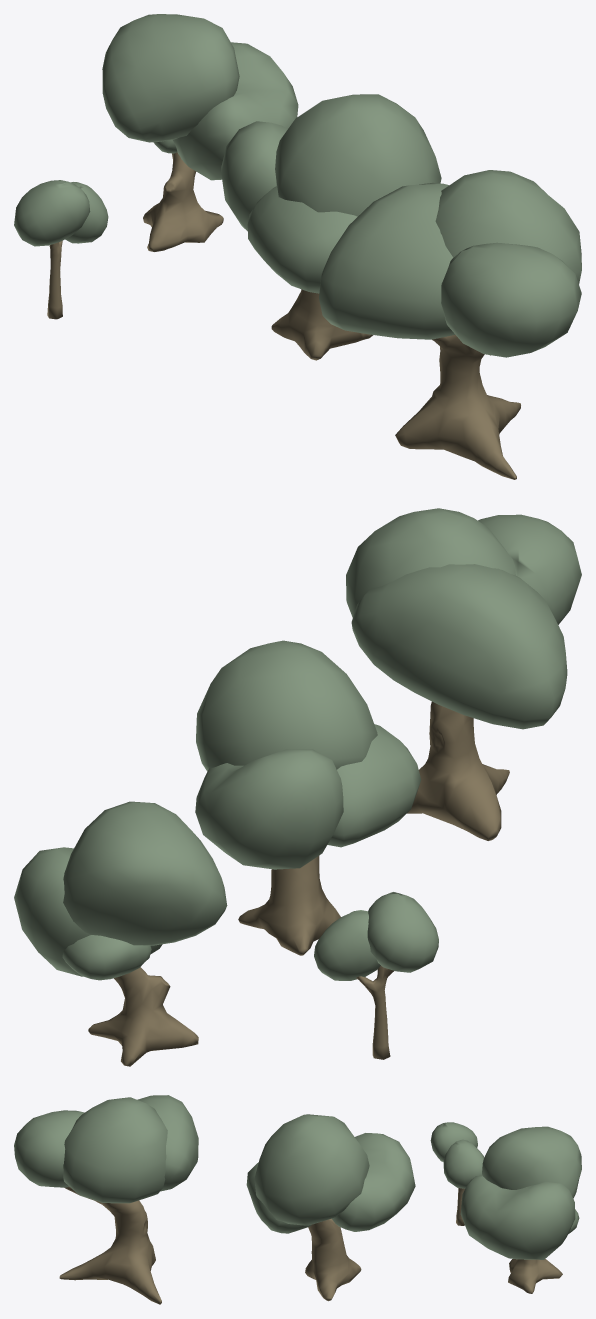
3 renders of one model, top to bottom at view 1: azimuth 30°, elevation 25°; view 2: azimuth 150°, elevation 25°; view 3: azimuth 270°, elevation 25°, orthographic. The views are drawn at different scales.
Visible parts, largest first — view 1: PM3D_Sphere3D1_4, PM3D_Sphere3D1_5, PM3D_Sphere3D1_7, PM3D_Sphere3D2, PM3D_Sphere3D1_3, Tree2_lo1, treeleaves2, PM3D_Sphere3D1_6, treeleaves1, Tree1_lo1, PM3D_Sphere3D3, Tree3_lo1 (+2 smaller); view 2: PM3D_Sphere3D1_4, PM3D_Sphere3D1_7, PM3D_Sphere3D1_5, treeleaves1, PM3D_Sphere3D1_3, Tree2_lo1, PM3D_Sphere3D1_6, PM3D_Sphere3D2, treeleaves2, Tree3_lo1, Tree1_lo1, PM3D_Sphere3D3 (+3 smaller); view 3: PM3D_Sphere3D1_5, PM3D_Sphere3D1_3, treeleaves2, PM3D_Sphere3D1_7, treeleaves1, Tree2_lo1, PM3D_Sphere3D2, PM3D_Sphere3D1_4, Tree3_lo1, PM3D_Sphere3D4, Tree1_lo1, PM3D_Sphere3D3 (+1 smaller).
Boxes of the visible parts, x1,y1,x2,y2 form: PM3D_Sphere3D1_4: [319, 183, 454, 339]; PM3D_Sphere3D1_5: [275, 94, 441, 216]; PM3D_Sphere3D1_7: [102, 14, 239, 142]; PM3D_Sphere3D2: [441, 242, 581, 357]; PM3D_Sphere3D1_3: [435, 170, 581, 283]; Tree2_lo1: [395, 334, 520, 479]; treeleaves2: [172, 42, 298, 180]; PM3D_Sphere3D1_6: [247, 186, 357, 293]; treeleaves1: [221, 121, 287, 231]; Tree1_lo1: [143, 152, 223, 251]; PM3D_Sphere3D3: [14, 180, 90, 246]; Tree3_lo1: [271, 289, 373, 360]; PM3D_Sphere3D1_4: [351, 564, 567, 729]; PM3D_Sphere3D1_7: [63, 801, 227, 945]; PM3D_Sphere3D1_5: [196, 640, 377, 771]; treeleaves1: [195, 749, 343, 869]; PM3D_Sphere3D1_3: [346, 508, 515, 617]; Tree2_lo1: [407, 701, 509, 840]; PM3D_Sphere3D1_6: [327, 724, 421, 847]; PM3D_Sphere3D2: [478, 514, 581, 624]; treeleaves2: [14, 847, 162, 976]; Tree3_lo1: [238, 855, 340, 955]; Tree1_lo1: [88, 967, 198, 1066]; PM3D_Sphere3D3: [367, 892, 438, 972]; PM3D_Sphere3D1_5: [254, 1114, 369, 1225]; PM3D_Sphere3D1_3: [63, 1097, 167, 1203]; treeleaves2: [460, 1175, 575, 1259]; PM3D_Sphere3D1_7: [482, 1126, 581, 1198]; treeleaves1: [332, 1133, 415, 1231]; Tree2_lo1: [59, 1187, 161, 1304]; PM3D_Sphere3D2: [14, 1110, 84, 1187]; PM3D_Sphere3D1_4: [137, 1095, 198, 1191]; Tree3_lo1: [305, 1218, 361, 1301]; PM3D_Sphere3D4: [443, 1139, 484, 1188]; Tree1_lo1: [508, 1259, 562, 1293]; PM3D_Sphere3D3: [430, 1122, 477, 1161].
Size of the model in its own units: 10.1 by 8.16 by 22.
